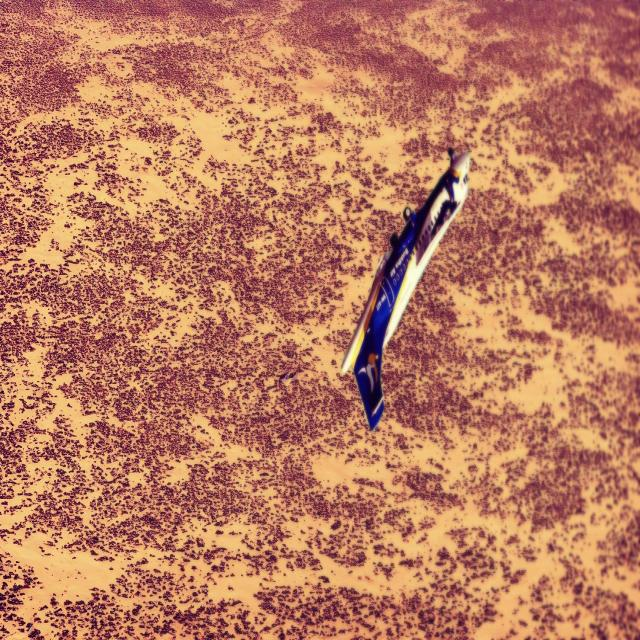airplane: (340, 146, 471, 431)
